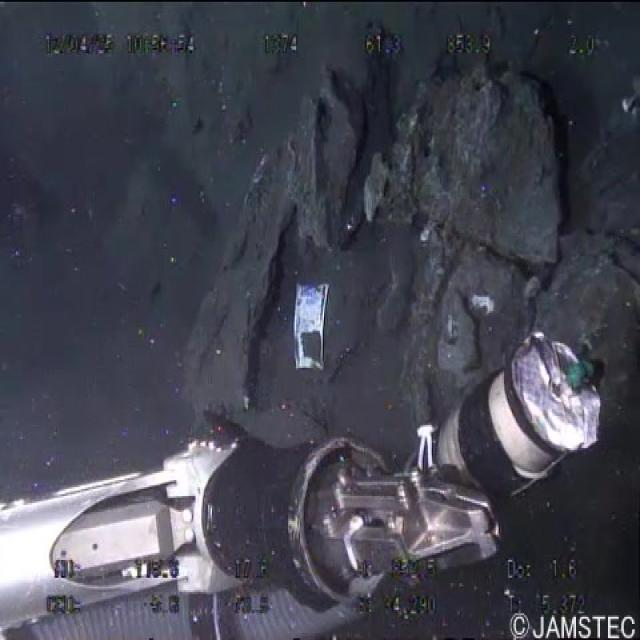plastic: (284, 277, 337, 375)
